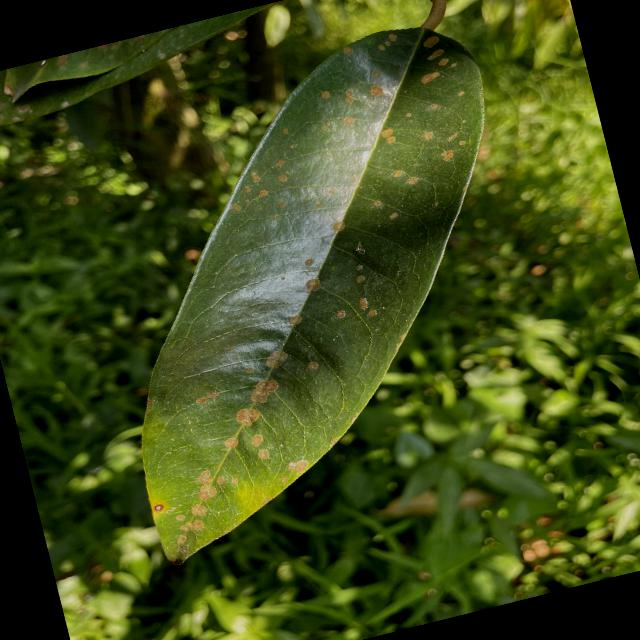Algal Leaf Spot: (41, 0, 592, 579)
